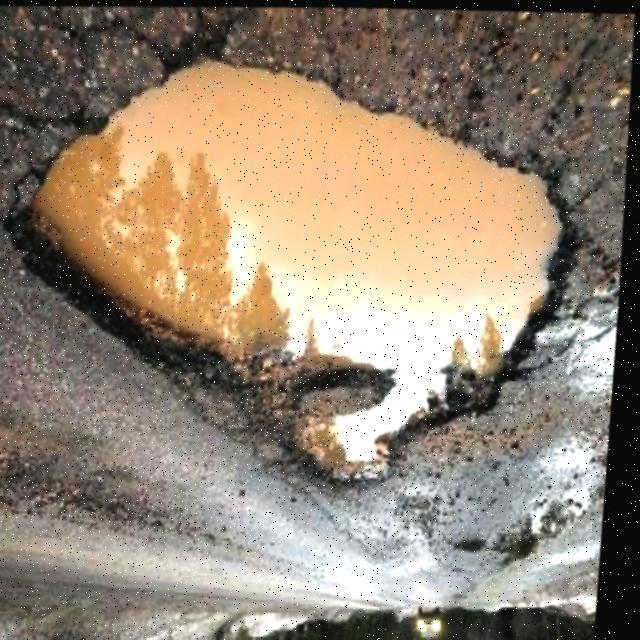pothole: (0, 34, 600, 498)
